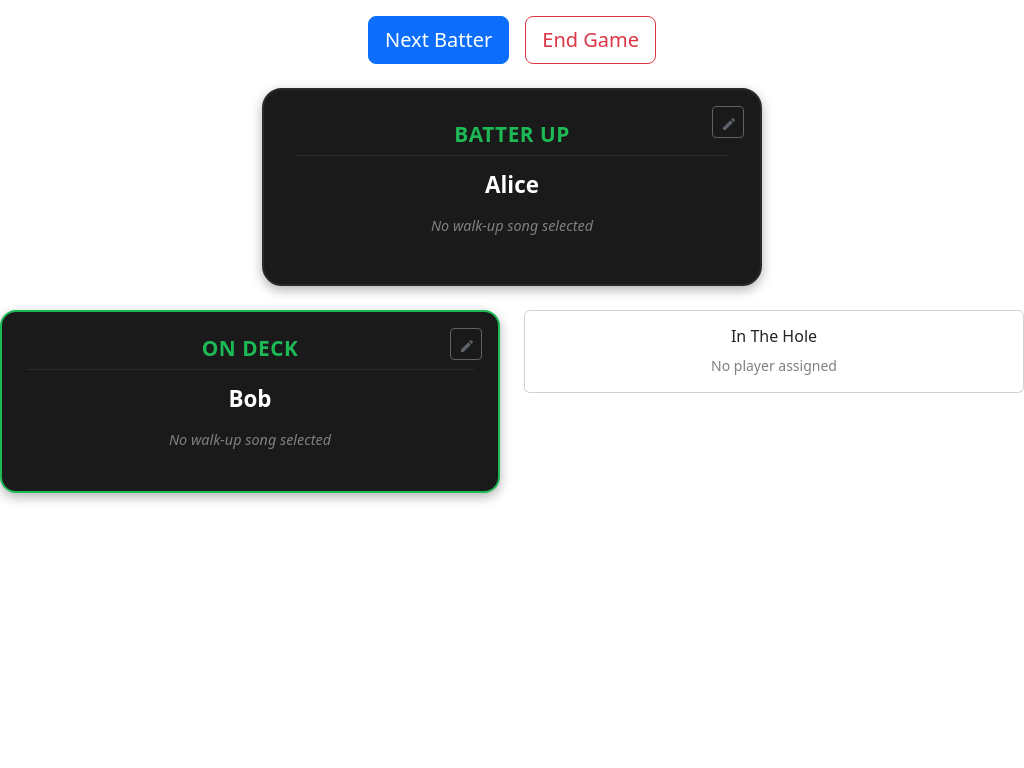
Test: GameMode › should close confirmation dialog when cancel is clicked
Click the button "End Game": {"x": 591, "y": 40} [525,16,656,64]
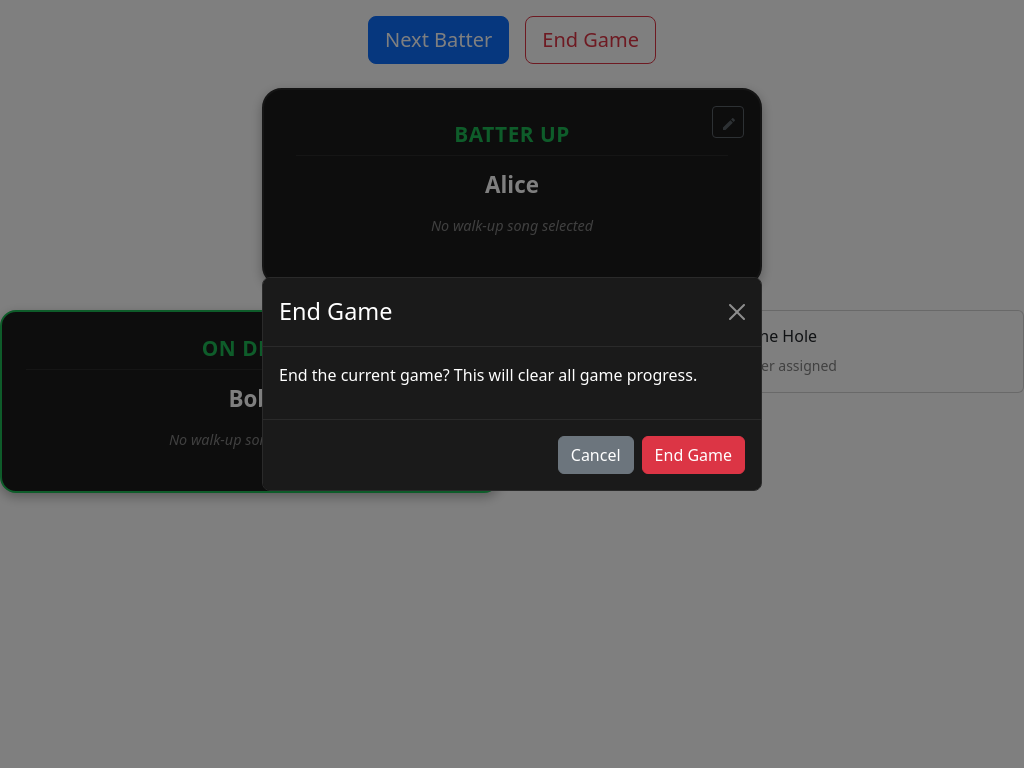
Click the button "Cancel": {"x": 596, "y": 455} [558,436,634,474]
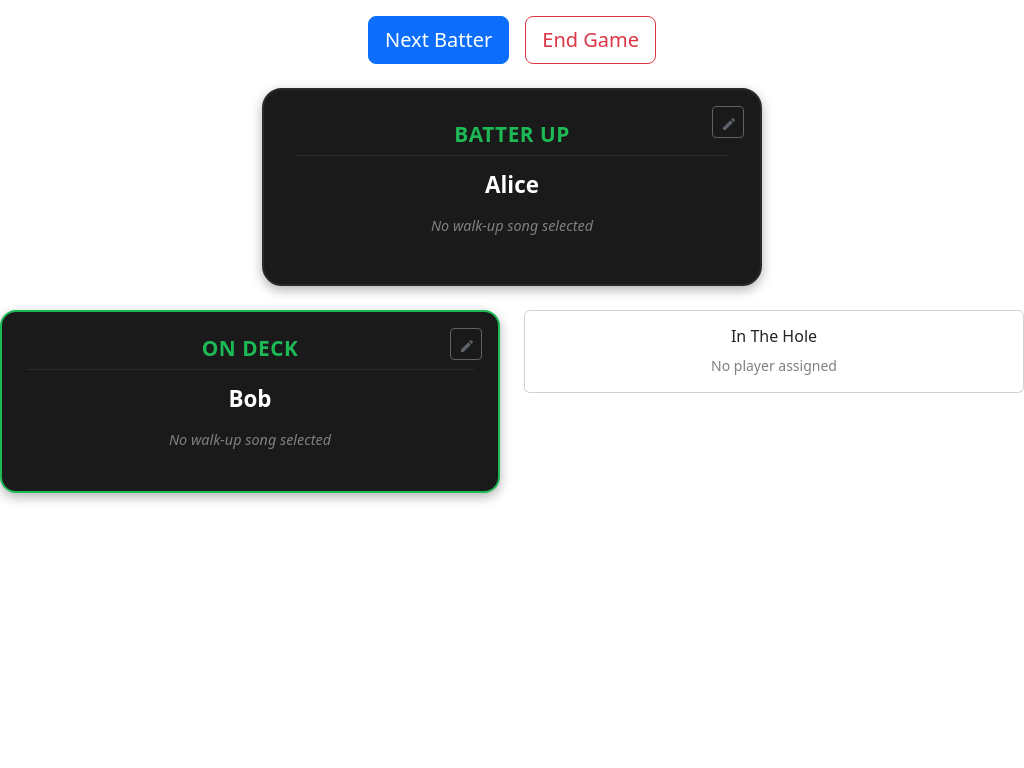
Result: the text "End the current game? This will clear all game progress." is gone
